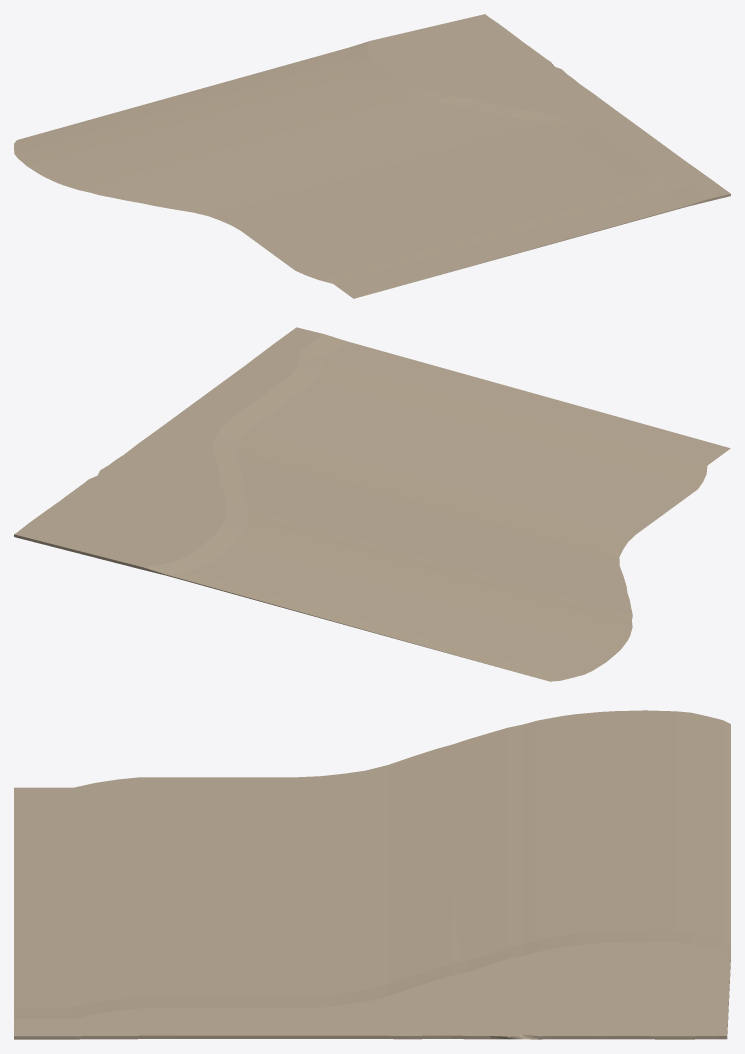
The model's file is ENV_Sand.fbx.
The picture shows the model from 3 angles, top to bottom: view 1: azimuth 30°, elevation 25°; view 2: azimuth 150°, elevation 25°; view 3: azimuth 270°, elevation 25°; orthographic projection. The views are drawn at different scales.
Parts seen in each view (by area): view 1: Sand:Sand; view 2: Sand:Sand; view 3: Sand:Sand.
Boxes of the visible parts, box(x1,y1,x2,y2) form: Sand:Sand: box(14, 14, 730, 298); Sand:Sand: box(14, 327, 730, 681); Sand:Sand: box(14, 710, 730, 1039).
Bounding box in the file's own units: 435 × 11.13 × 382.
